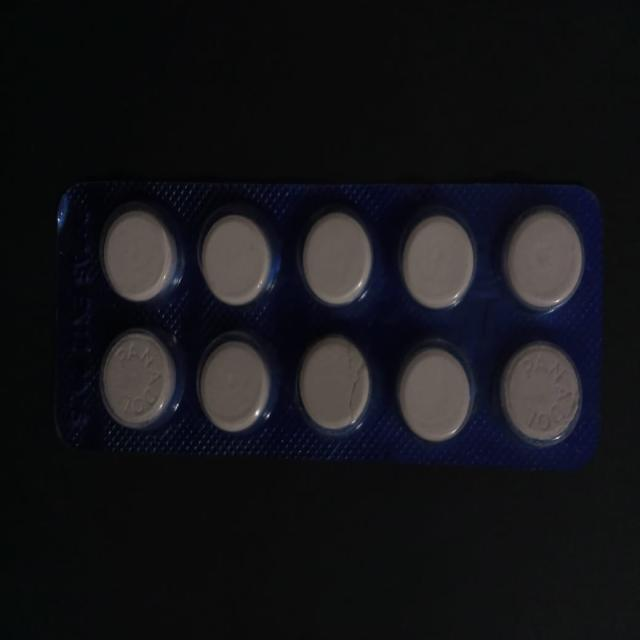defect: (295, 333, 375, 439)
